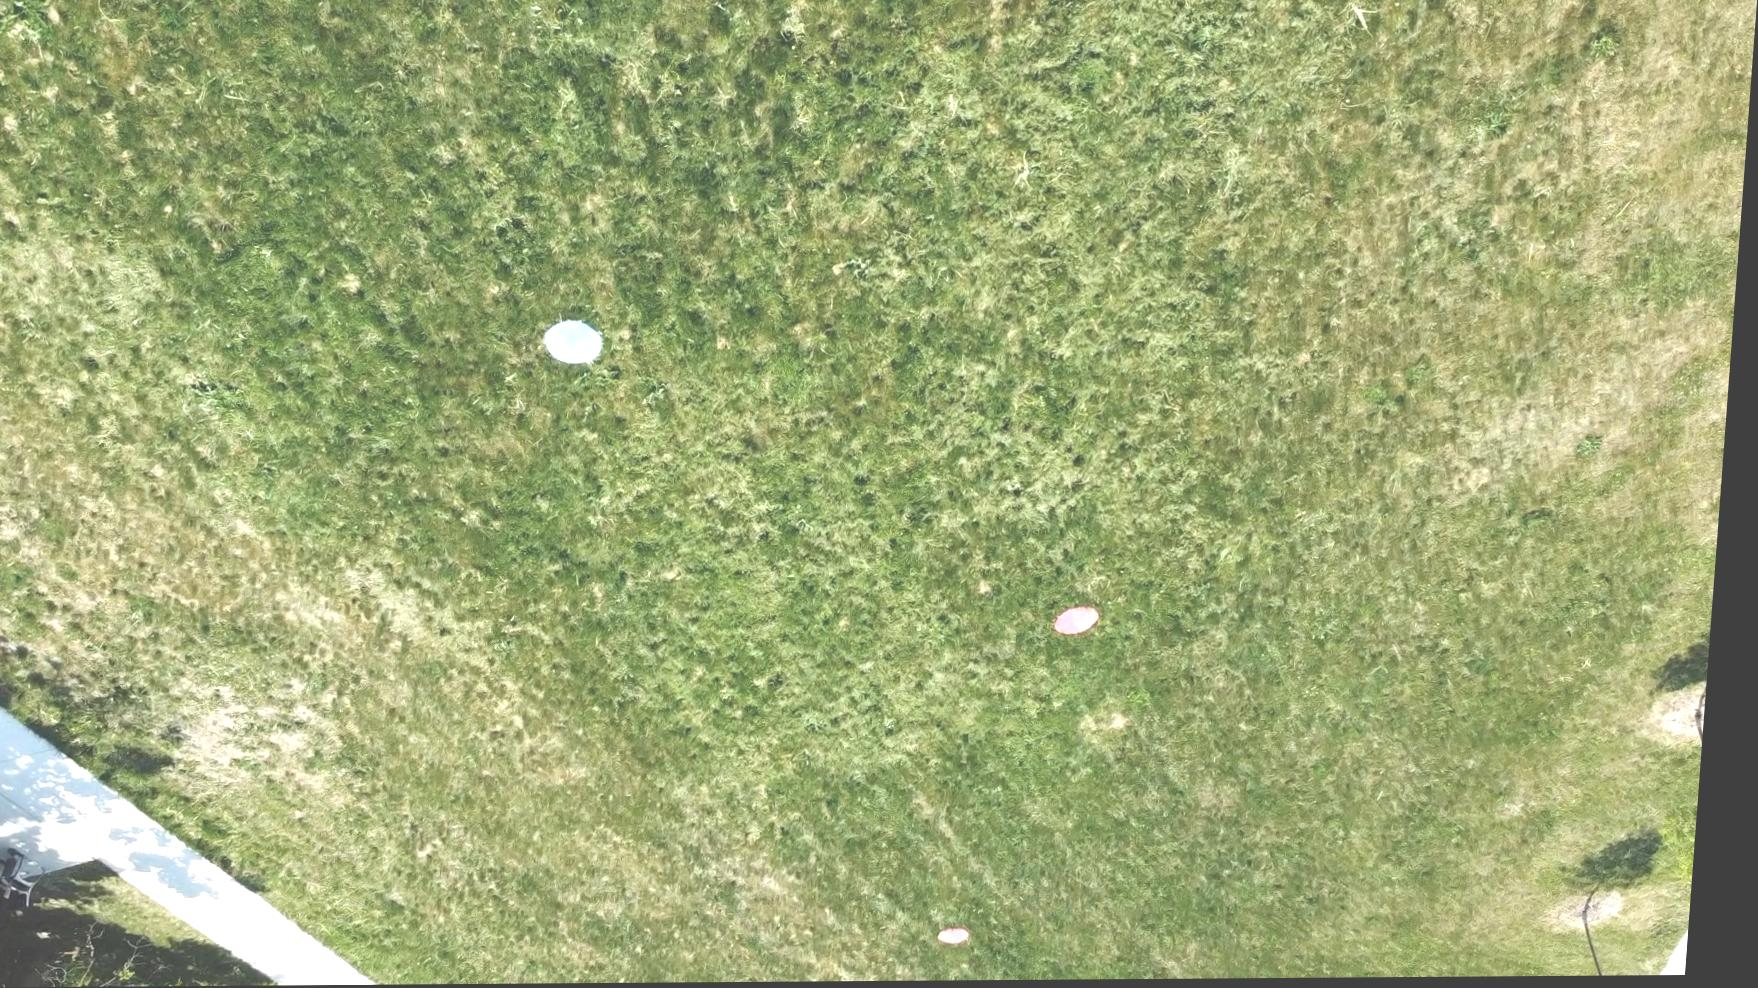Blue: (546, 320, 616, 367)
Red: (1061, 606, 1112, 639), (950, 926, 986, 949)
